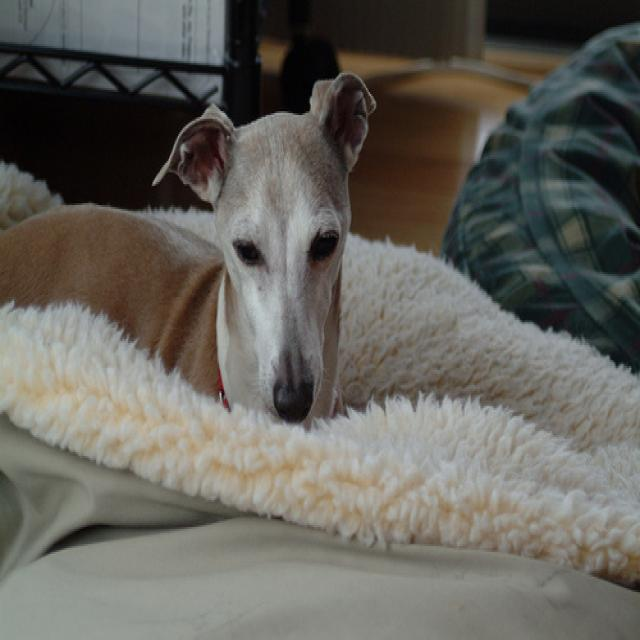dog: (1, 70, 376, 430)
